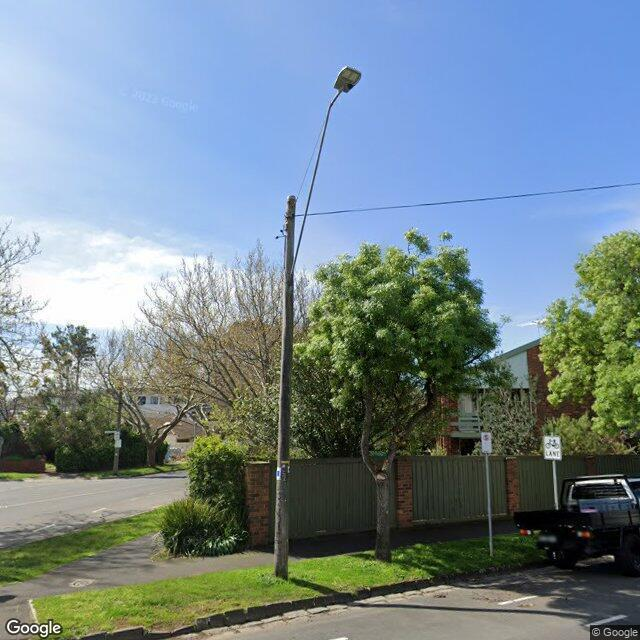streetlight: (286, 66, 362, 286)
timber-pole: (274, 194, 296, 582)
